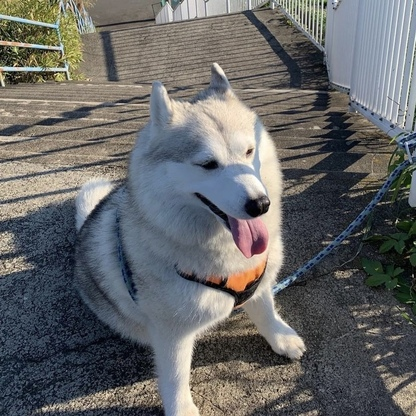husky: (66, 59, 311, 416)
